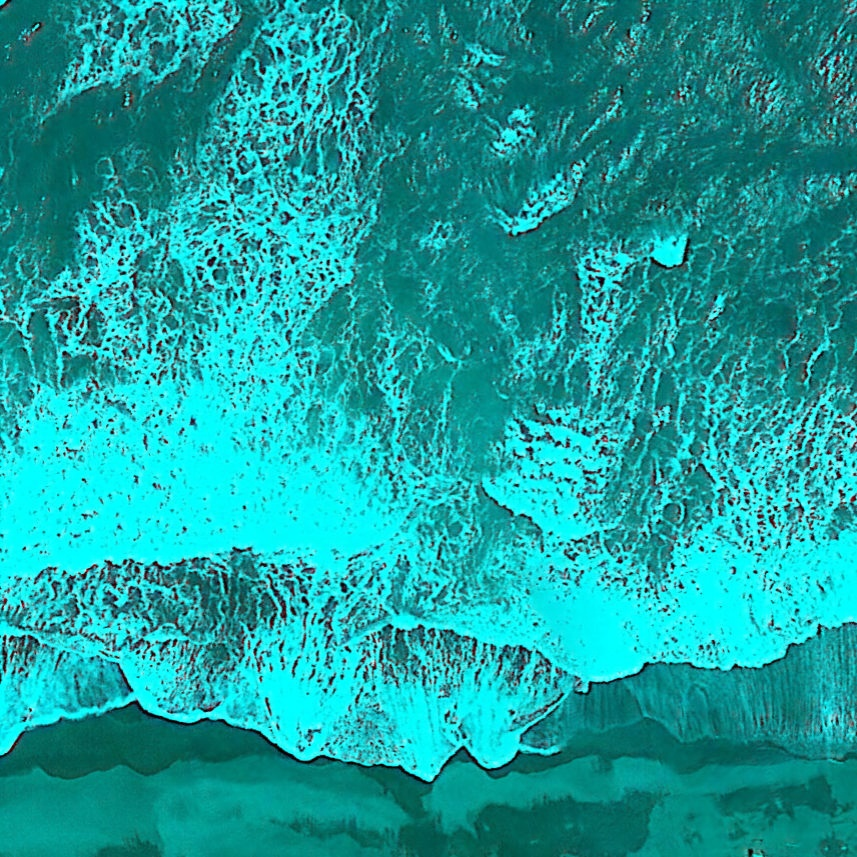rip_current: (285, 108, 572, 612)
